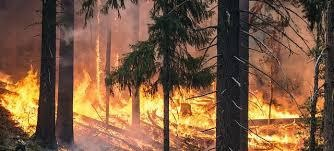fire: (70, 11, 219, 147), (247, 89, 303, 146)
